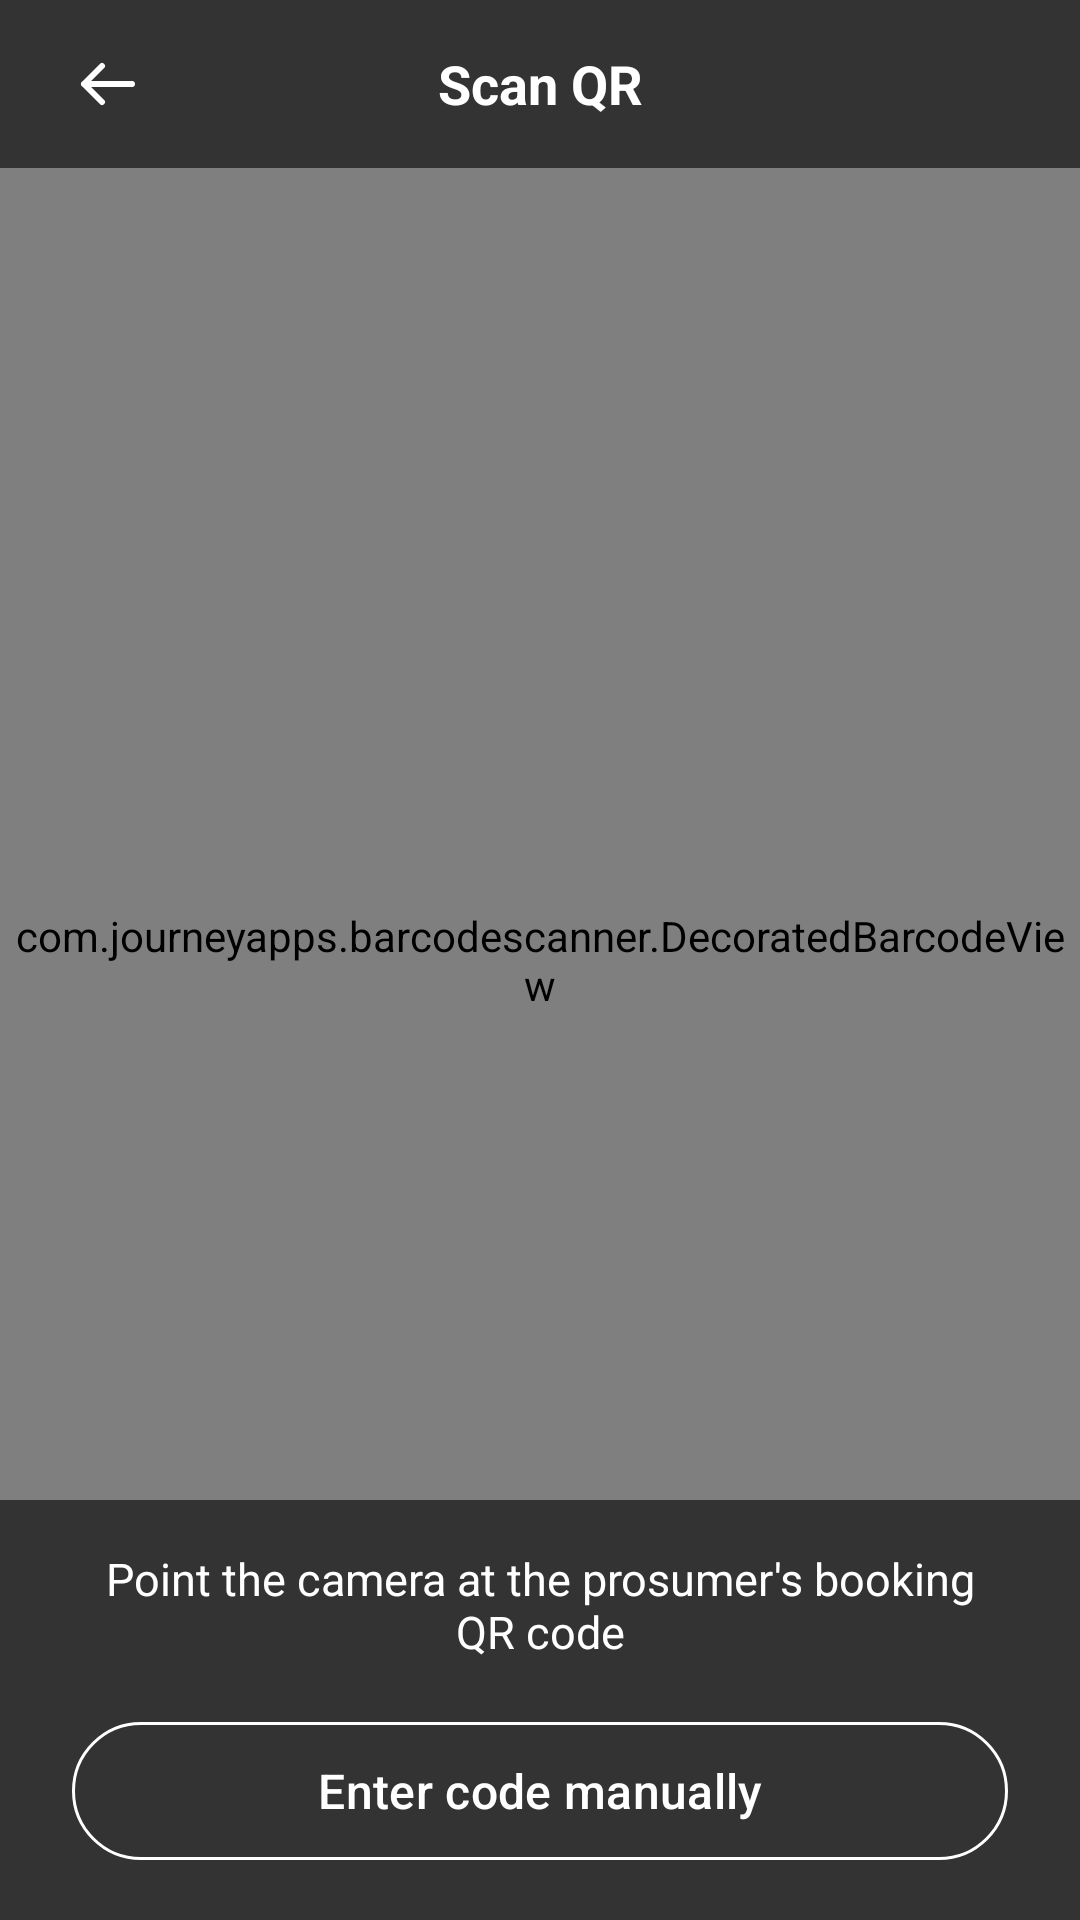

Named icons in this screenshot (1080 x 1920) and their centers, point (x, y):
Back: point (108, 84)
